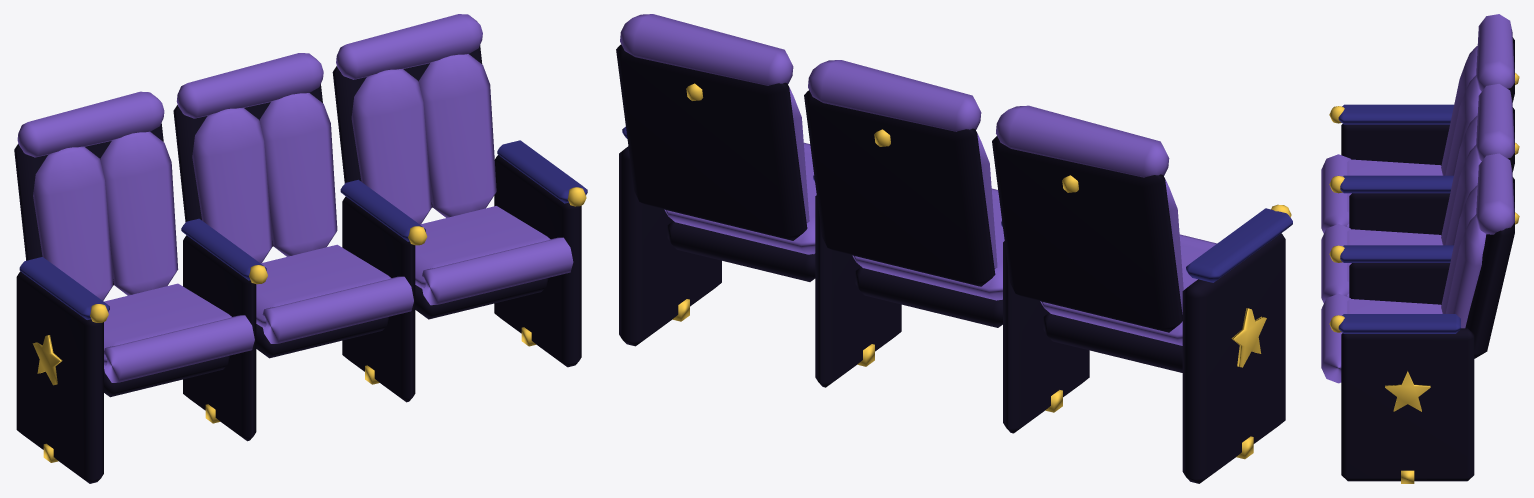
Rendered from audience_seats.glb.
3 views of the same model, side by side, from view 1: azimuth 30°, elevation 25°; view 2: azimuth 150°, elevation 25°; view 3: azimuth 270°, elevation 25° (orthographic). The views are drawn at different scales.
Parts seen in each view (by area): view 1: Row; view 2: Row; view 3: Row.
Boxes of the visible parts, <box> form: Row: <box>14,14,587,483</box>; Row: <box>616,14,1292,483</box>; Row: <box>1321,14,1519,483</box>.
Bounding box in the file's own units: 1.98 × 1.11 × 0.7453.
